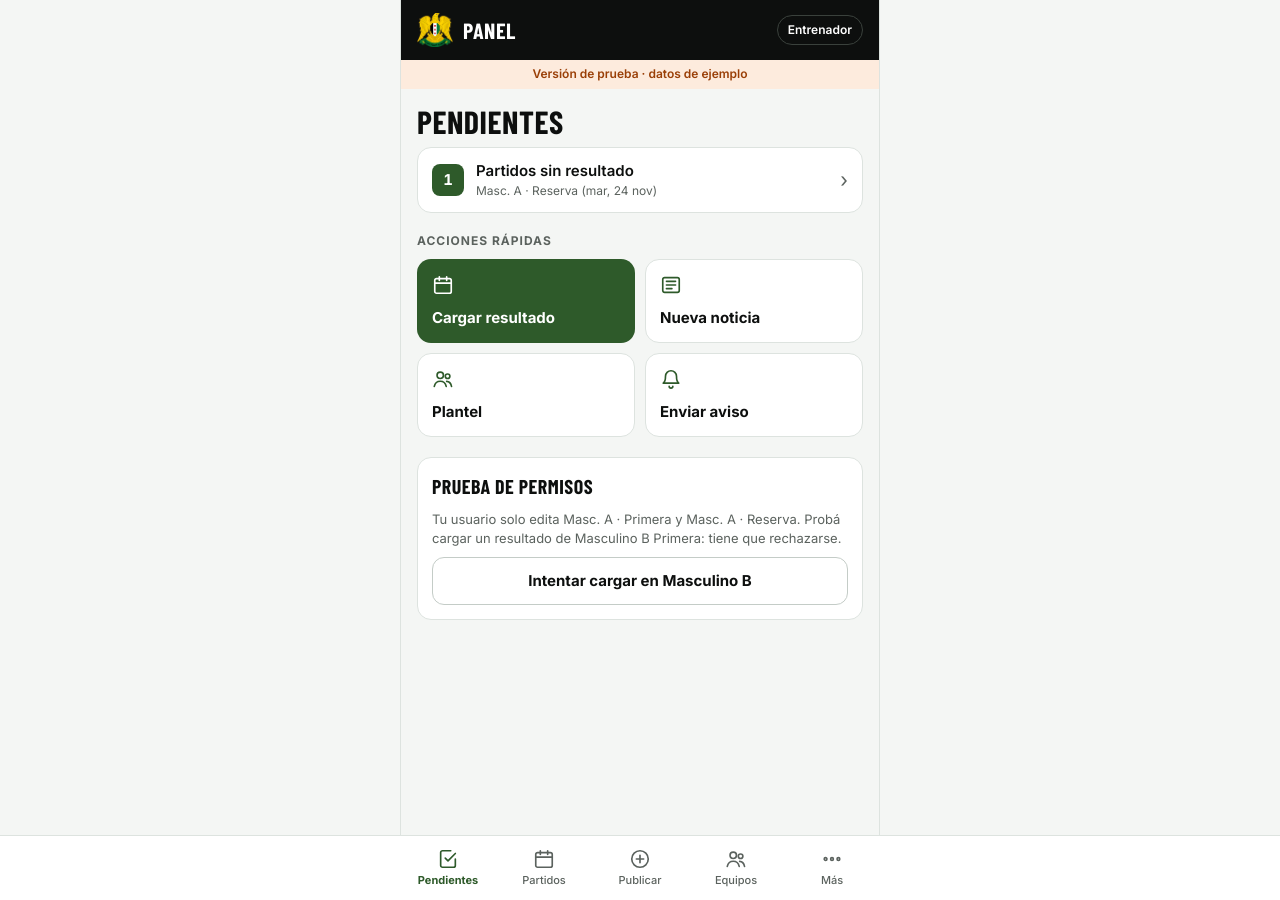
privacidad y permisos en pantalla › el entrenador no puede cargar resultados de otro equipo
Click the button "Intentar cargar en Masculino B". click: (640, 581)
box: [432, 557, 848, 605]
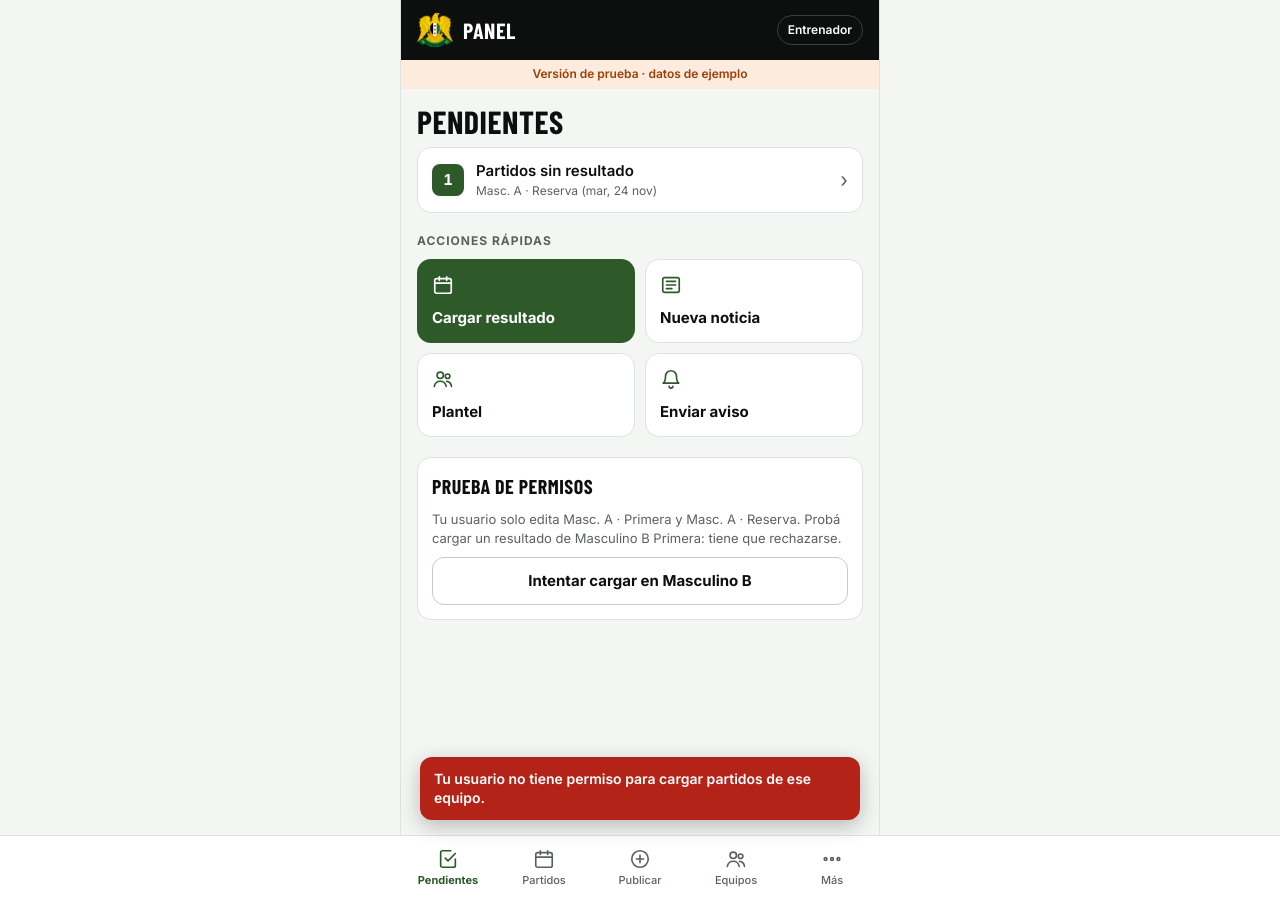
Expected: the message shows "no tiene permiso", [434, 770, 811, 806]
